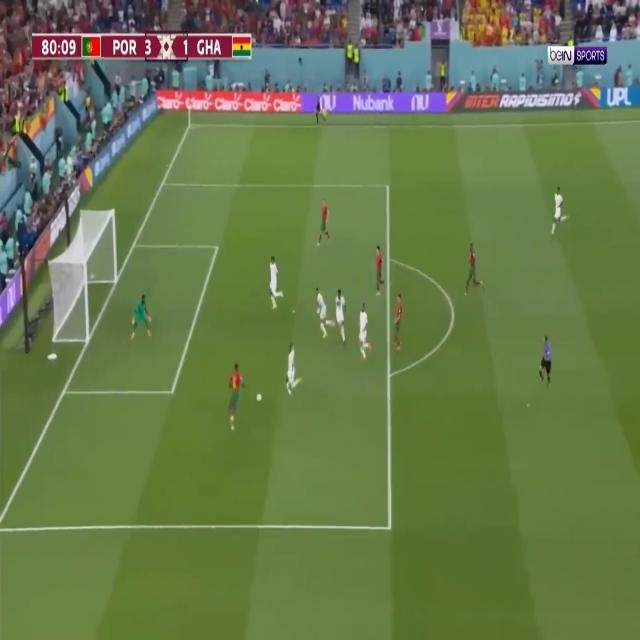Ball: (256, 393, 262, 401)
GoalKeeper: (131, 290, 153, 348)
Referee: (538, 334, 553, 389), (316, 94, 326, 124)
TEAM 1: (225, 362, 249, 433), (464, 242, 484, 298), (392, 293, 405, 355), (316, 198, 332, 246), (373, 245, 385, 298)
TEAM 2: (315, 286, 335, 339), (267, 254, 284, 313), (285, 343, 303, 397), (356, 302, 372, 361), (552, 186, 570, 236), (336, 288, 348, 345)
